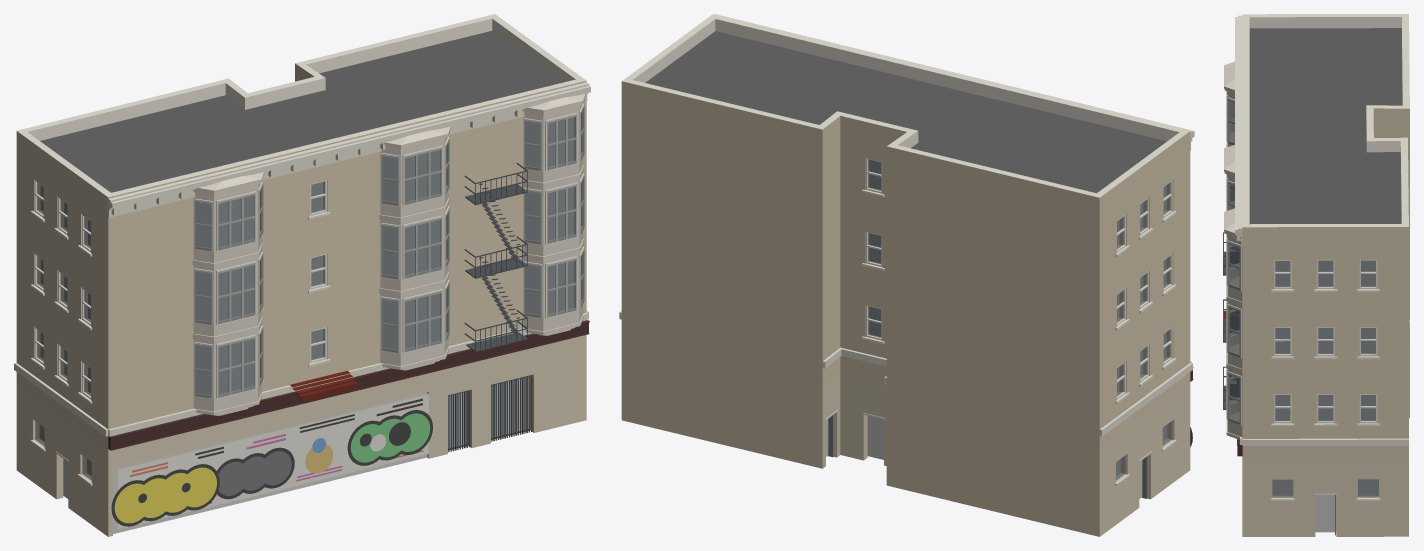
File: exterior.glb
3 views of the same model, side by side, from view 1: azimuth 30°, elevation 25°; view 2: azimuth 150°, elevation 25°; view 3: azimuth 270°, elevation 25° (orthographic). The views are drawn at different scales.
Parts seen in each view (by area): view 1: shell, bay-glazing-hyb, roof, shadow-proxy, bay-windows-hyb, trim, mural-discs, mural, storefront, fire-escape, glazing, frames (+1 smaller); view 2: shell, roof, trim, glazing, shadow-proxy, frames; view 3: shell, roof, shadow-proxy, glazing, trim, bay-glazing-hyb, bay-windows-hyb, frames, fire-escape.
Part boxes in pixels (box(x1,y1,x2,y2)): shell: box(16, 14, 586, 536); bay-glazing-hyb: box(194, 103, 584, 399); roof: box(40, 31, 562, 192); shadow-proxy: box(40, 117, 573, 498); bay-windows-hyb: box(192, 93, 585, 415); trim: box(14, 82, 590, 485); mural-discs: box(111, 410, 432, 526); mural: box(118, 394, 428, 529); storefront: box(55, 375, 532, 533); fire-escape: box(464, 163, 527, 352); glazing: box(35, 182, 324, 480); frames: box(34, 180, 326, 399); shell: box(621, 14, 1190, 536); roof: box(645, 31, 1166, 193); trim: box(619, 14, 1194, 485); glazing: box(868, 159, 1171, 480); shadow-proxy: box(826, 160, 1166, 498); frames: box(865, 158, 1172, 399); shell: box(1242, 14, 1409, 536); roof: box(1249, 28, 1402, 224); shadow-proxy: box(1272, 261, 1378, 532); glazing: box(1272, 260, 1378, 497); trim: box(1235, 15, 1409, 500); bay-glazing-hyb: box(1226, 91, 1241, 425); bay-windows-hyb: box(1224, 61, 1242, 439); frames: box(1274, 259, 1377, 423); fire-escape: box(1223, 232, 1238, 409).
Size of the model in its own units: 24.15 by 16.2 by 8.86.
